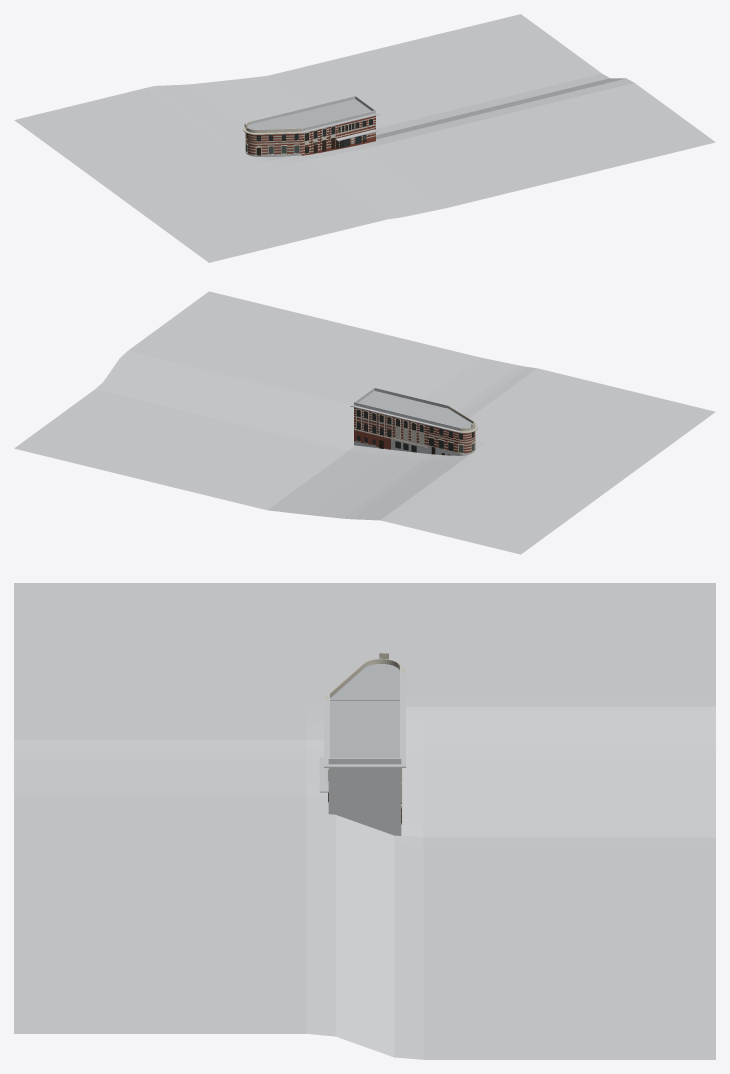
File: stage-2n-a-candidate.glb
3 views of the same model, one above another, from view 1: azimuth 30°, elevation 25°; view 2: azimuth 150°, elevation 25°; view 3: azimuth 270°, elevation 25° (orthographic). The views are drawn at different scales.
Parts seen in each view (by area): view 1: N_A_SHELL_VALIDATION_SITE_OCCLUSION_surface__Validation_cont, N_A_LOWER_ALBERT_LONG__NEW_LB_FINISH_SKIN_LA_MAIN, N_A_SHELL_INFERRED_ordinary_parapet__Neutral_edge, N_A_SHELL_INFERRED_piecewise_longitudinal_mass__OLD_OBLIQUE_, N_A_SHELL_PLACEHOLDER_roof_closure__Neutral_roof, N_A_SHELL_INFERRED_central_terrace_cap__Neutral_roof, N_A_SHELL_INFERRED_prow_roof_cap__Neutral_roof; view 2: N_A_SHELL_VALIDATION_SITE_OCCLUSION_surface__Validation_cont, N_A_WYNDHAM_LONG__NEW_LB_FINISH_SKIN_WY_MAIN, N_A_WYNDHAM_LONG__SC2D_LIGHT_TRIM, N_A_WYNDHAM_LONG__SC2D_DARK_FRAME, N_A_SHELL_INFERRED_ordinary_parapet__Neutral_edge, N_A_SHELL_PLACEHOLDER_roof_closure__Neutral_roof, N_A_SHELL_INFERRED_central_terrace_cap__Neutral_roof, N_A_WYNDHAM_LONG__Neutral_clay, N_A_SHELL_INFERRED_prow_roof_cap__Neutral_roof; view 3: N_A_SHELL_VALIDATION_SITE_OCCLUSION_surface__Validation_cont, N_A_SHELL_INFERRED_piecewise_longitudinal_mass__Neutral_clay, N_A_SHELL_INFERRED_central_terrace_cap__Neutral_roof, N_A_SHELL_PLACEHOLDER_roof_closure__Neutral_roof, N_A_SHELL_INFERRED_prow_roof_cap__Neutral_roof, N_A_SHELL_PLACEHOLDER_lower_shell__Neutral_clay, N_A_SHELL_CONFIRMED_eave_mass__Neutral_edge, N_A_SHELL_INFERRED_ordinary_parapet__Neutral_edge.
Boxes of the visible parts, x1,y1,x2,y2 form: N_A_SHELL_VALIDATION_SITE_OCCLUSION_surface__Validation_cont: (14,14,715,262); N_A_LOWER_ALBERT_LONG__NEW_LB_FINISH_SKIN_LA_MAIN: (301,115,375,154); N_A_SHELL_INFERRED_ordinary_parapet__Neutral_edge: (251,96,375,131); N_A_SHELL_INFERRED_piecewise_longitudinal_mass__OLD_OBLIQUE_: (257,133,301,155); N_A_SHELL_PLACEHOLDER_roof_closure__Neutral_roof: (317,99,371,120); N_A_SHELL_INFERRED_central_terrace_cap__Neutral_roof: (284,108,333,128); N_A_SHELL_INFERRED_prow_roof_cap__Neutral_roof: (247,116,299,129); N_A_SHELL_VALIDATION_SITE_OCCLUSION_surface__Validation_cont: (14,291,715,554); N_A_WYNDHAM_LONG__NEW_LB_FINISH_SKIN_WY_MAIN: (354,407,458,453); N_A_WYNDHAM_LONG__SC2D_LIGHT_TRIM: (354,408,453,451); N_A_WYNDHAM_LONG__SC2D_DARK_FRAME: (356,409,453,455); N_A_SHELL_INFERRED_ordinary_parapet__Neutral_edge: (354,387,458,430); N_A_SHELL_PLACEHOLDER_roof_closure__Neutral_roof: (358,391,412,411); N_A_SHELL_INFERRED_central_terrace_cap__Neutral_roof: (396,400,445,419); N_A_WYNDHAM_LONG__Neutral_clay: (354,437,458,455); N_A_SHELL_INFERRED_prow_roof_cap__Neutral_roof: (429,408,472,427); N_A_SHELL_VALIDATION_SITE_OCCLUSION_surface__Validation_cont: (14,583,715,1059); N_A_SHELL_INFERRED_piecewise_longitudinal_mass__Neutral_clay: (328,768,401,805); N_A_SHELL_INFERRED_central_terrace_cap__Neutral_roof: (330,701,399,729); N_A_SHELL_PLACEHOLDER_roof_closure__Neutral_roof: (330,730,399,758); N_A_SHELL_INFERRED_prow_roof_cap__Neutral_roof: (330,664,399,700); N_A_SHELL_PLACEHOLDER_lower_shell__Neutral_clay: (328,805,401,835); N_A_SHELL_CONFIRMED_eave_mass__Neutral_edge: (324,672,405,767); N_A_SHELL_INFERRED_ordinary_parapet__Neutral_edge: (328,667,401,764).
Size of the model in its own units: 180 by 16.36 by 120.
Materials: 17 (5 with a texture image).
